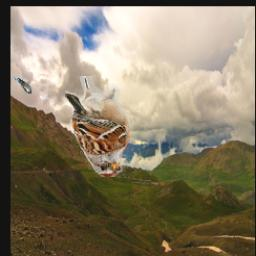Sparrow: (65, 77, 132, 178)
Swallow: (13, 77, 32, 95)
